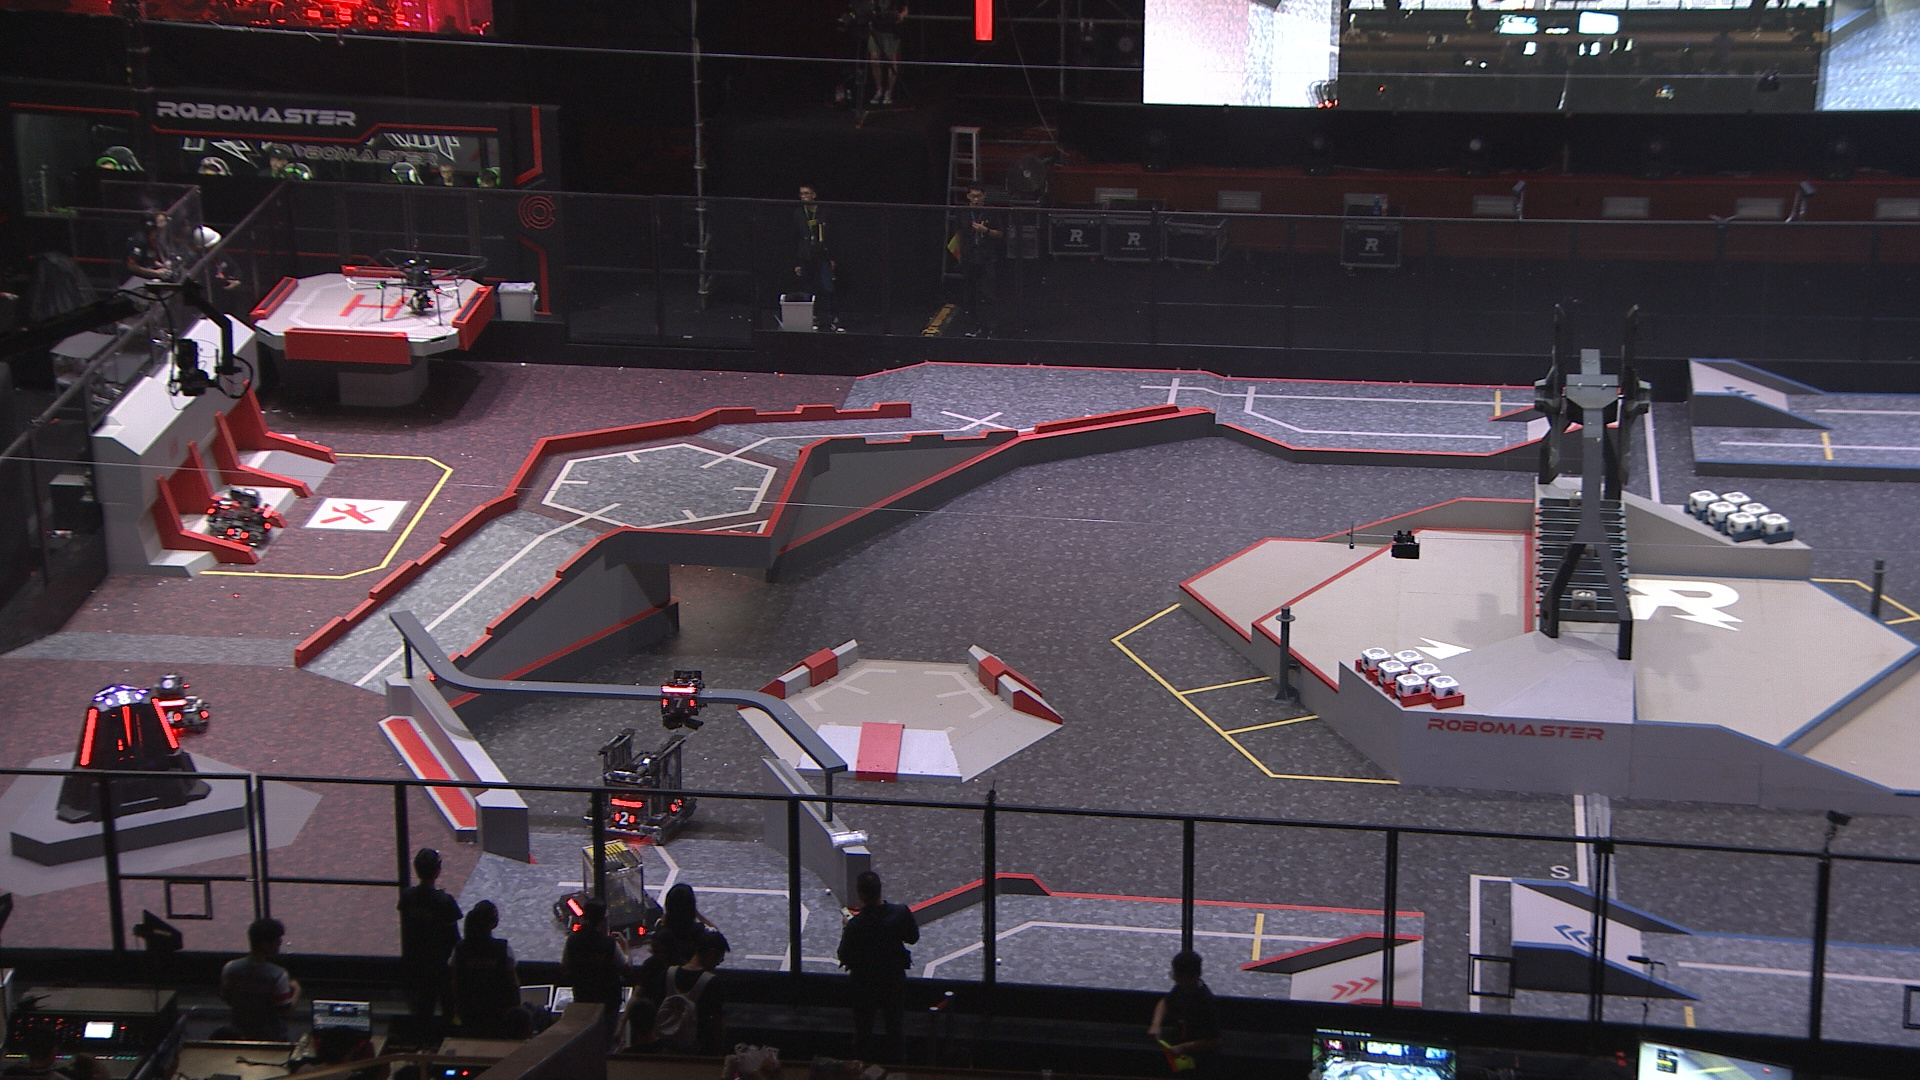armor: (150, 695, 181, 752), (74, 703, 98, 770), (119, 702, 136, 749), (657, 694, 698, 712), (617, 924, 647, 945), (560, 910, 580, 932), (222, 526, 249, 542), (613, 808, 637, 827), (665, 794, 684, 812), (195, 700, 211, 723), (161, 708, 181, 725)
base: (51, 676, 215, 827)
car: (582, 727, 705, 840), (553, 836, 666, 948), (142, 669, 215, 735), (200, 488, 273, 549)
ignore: (102, 688, 142, 708), (94, 683, 117, 704), (120, 680, 150, 694)
watcher: (654, 669, 708, 732)
